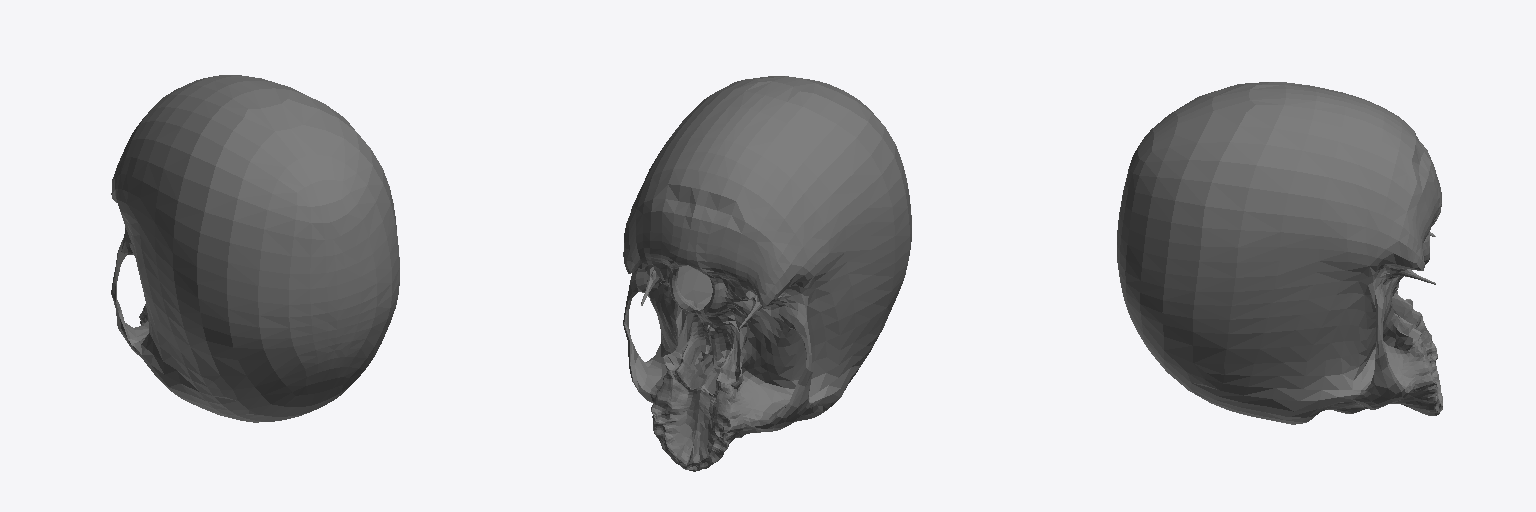
File: Female_Skeletal_Cranium.obj
3 views of the same model, side by side, from view 1: azimuth 30°, elevation 25°; view 2: azimuth 150°, elevation 25°; view 3: azimuth 270°, elevation 25° (orthographic).
Visible parts, largest first — view 1: Female_Skeletal_Cranium; view 2: Female_Skeletal_Cranium; view 3: Female_Skeletal_Cranium.
Part boxes in pixels (x1,y1,x2,y2): Female_Skeletal_Cranium: (111, 75, 399, 422); Female_Skeletal_Cranium: (623, 76, 911, 471); Female_Skeletal_Cranium: (1117, 82, 1442, 424).
Bounding box in the file's own units: 1.29 × 1.91 × 1.74.